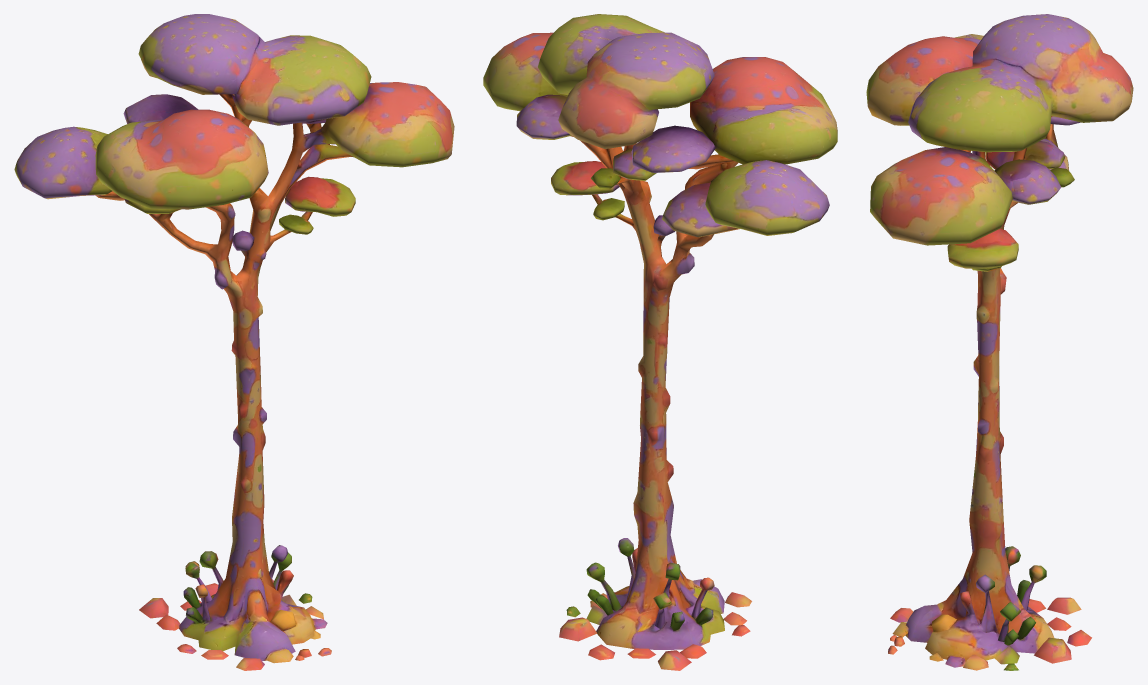
Rendered from alien_tree_03.glb.
3 views of the same model, side by side, from view 1: azimuth 30°, elevation 25°; view 2: azimuth 150°, elevation 25°; view 3: azimuth 270°, elevation 25° (orthographic). The views are drawn at different scales.
Parts seen in each view (by area): view 1: tripo_node_0804a092-7a85-4763-b286-1333abdfaa41; view 2: tripo_node_0804a092-7a85-4763-b286-1333abdfaa41; view 3: tripo_node_0804a092-7a85-4763-b286-1333abdfaa41.
Part boxes in pixels (x1,y1,x2,y2): tripo_node_0804a092-7a85-4763-b286-1333abdfaa41: [14, 14, 454, 670]; tripo_node_0804a092-7a85-4763-b286-1333abdfaa41: [483, 14, 837, 670]; tripo_node_0804a092-7a85-4763-b286-1333abdfaa41: [866, 14, 1133, 670].
Size of the model in its own units: 0.6568 by 0.9995 by 0.4009.
1 material, 1 textured.
